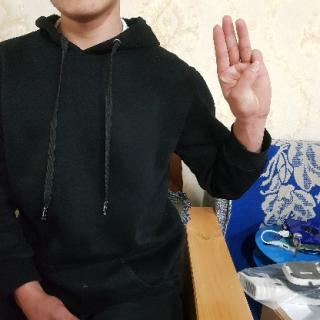THA: (210, 12, 275, 128)
